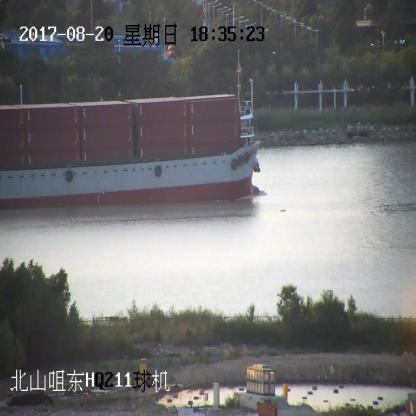Container Ship: (0, 49, 261, 209)
